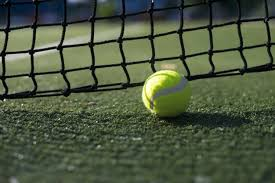tennis_ball: (142, 70, 192, 119)
